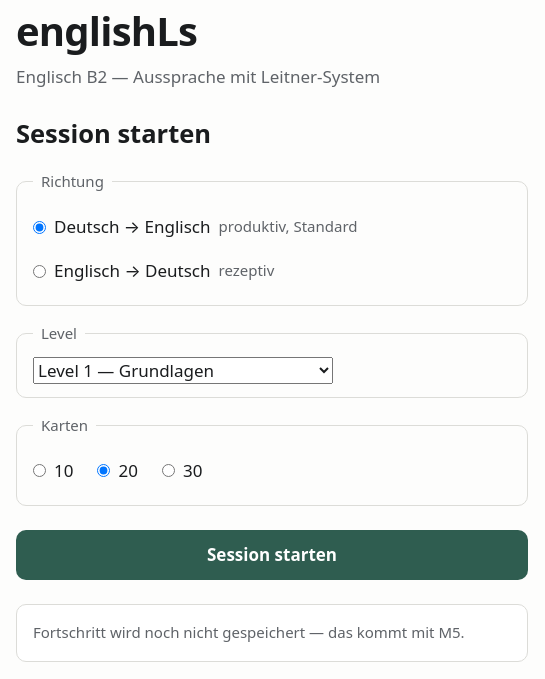
Scenario: card flow › shows the word on the en-de front so it can be heard
Click the radio button labelled "Englisch → Deutsch rezeptiv". click: (40, 271)
box: x1=33 y1=265 x2=46 y2=278
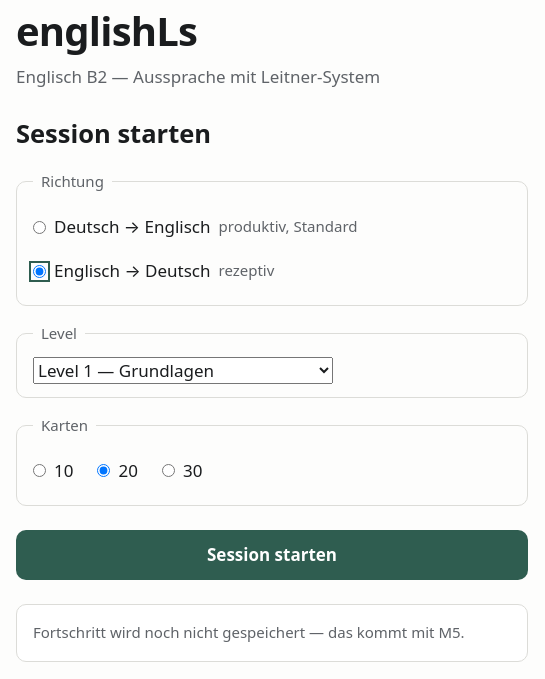
Click the button "Session starten". click: (272, 555)
box: x1=16 y1=530 x2=528 y2=580
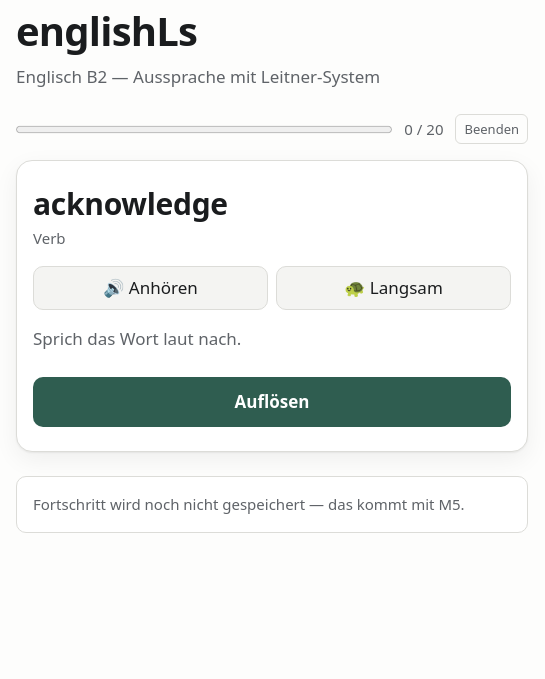
Expected: the heading "acknowledge" is shown, x1=33 y1=184 x2=228 y2=224
Expected: the button "🔊 Anhören" is shown, x1=33 y1=266 x2=268 y2=310
